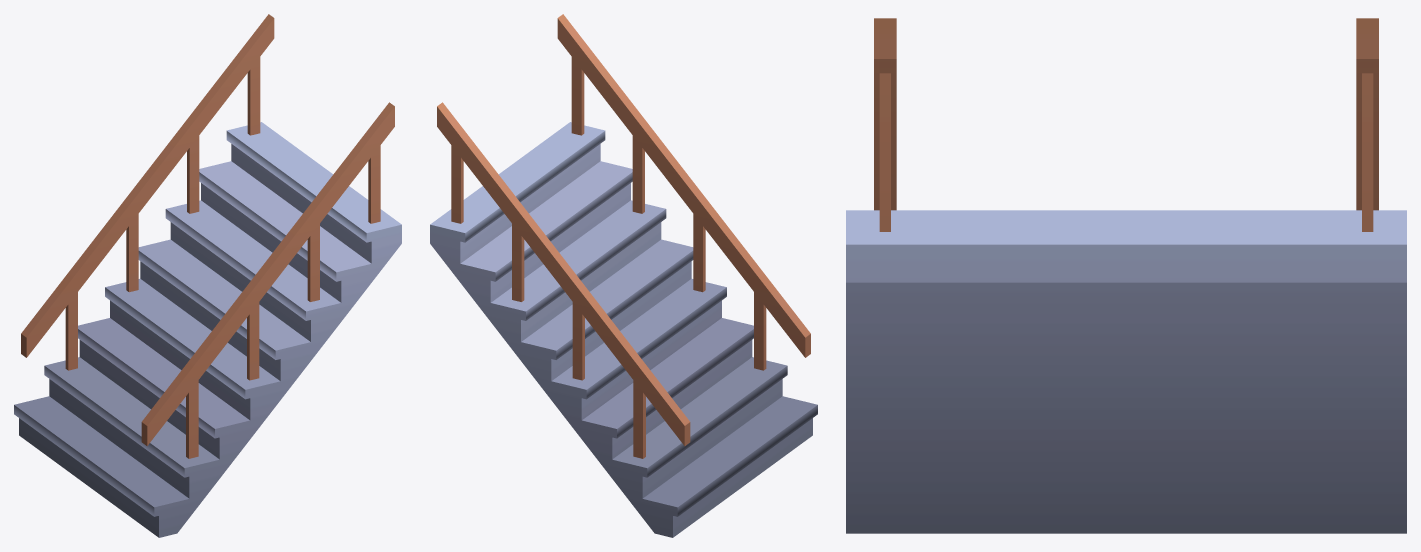
Rendered from stairs-wide-stone-handrail.glb.
3 renders of one model, left to right at view 1: azimuth 30°, elevation 25°; view 2: azimuth 150°, elevation 25°; view 3: azimuth 270°, elevation 25°, orthographic. The views are drawn at different scales.
Parts seen in each view (by area): view 1: stairs-wide-stone-handrail; view 2: stairs-wide-stone-handrail; view 3: stairs-wide-stone-handrail.
Part boxes in pixels (x1,y1,x2,y2): stairs-wide-stone-handrail: (14,14,401,537); stairs-wide-stone-handrail: (430,14,817,537); stairs-wide-stone-handrail: (846,18,1406,533).
Bounding box in the file's own units: 1.02 × 1.45 × 1.
1 material, 1 textured.
